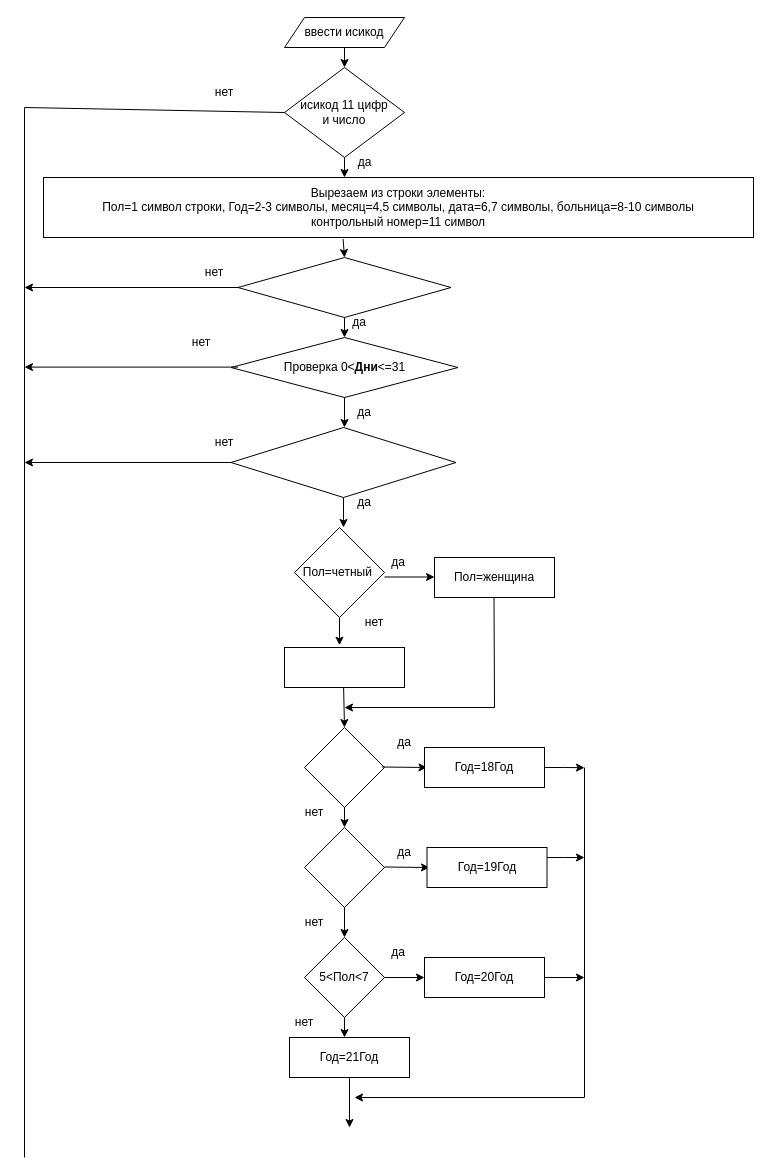
The diagram is 771 pixels wide and 1176 high, and some of its shapes have lost their labels. Each missing label, with the centre of its shape:
"0<Пол<=2" belongs at pixel 344 767.
"2<Пол<5" belongs at pixel 344 867.
"Пол=мужчина" belongs at pixel 344 667.
"Проверка 0< Месяц <=12" belongs at pixel 344 287.
"Проверка 0< Пол <=8" belongs at pixel 343 462.
